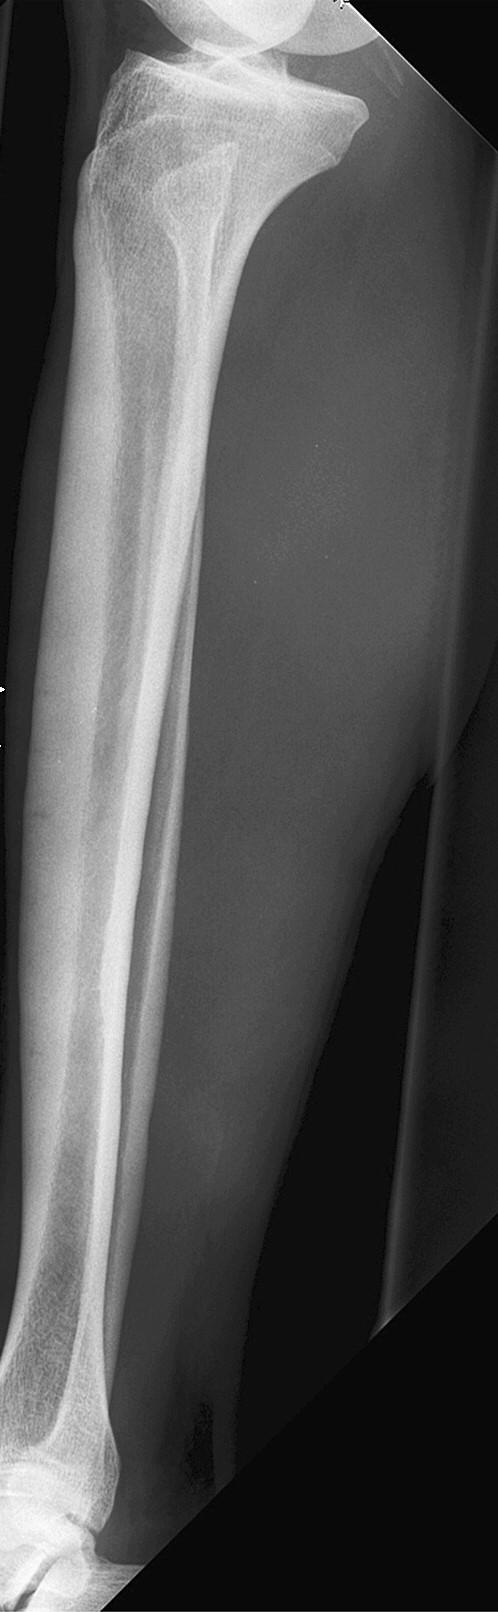fractured: (19, 798, 61, 840)
